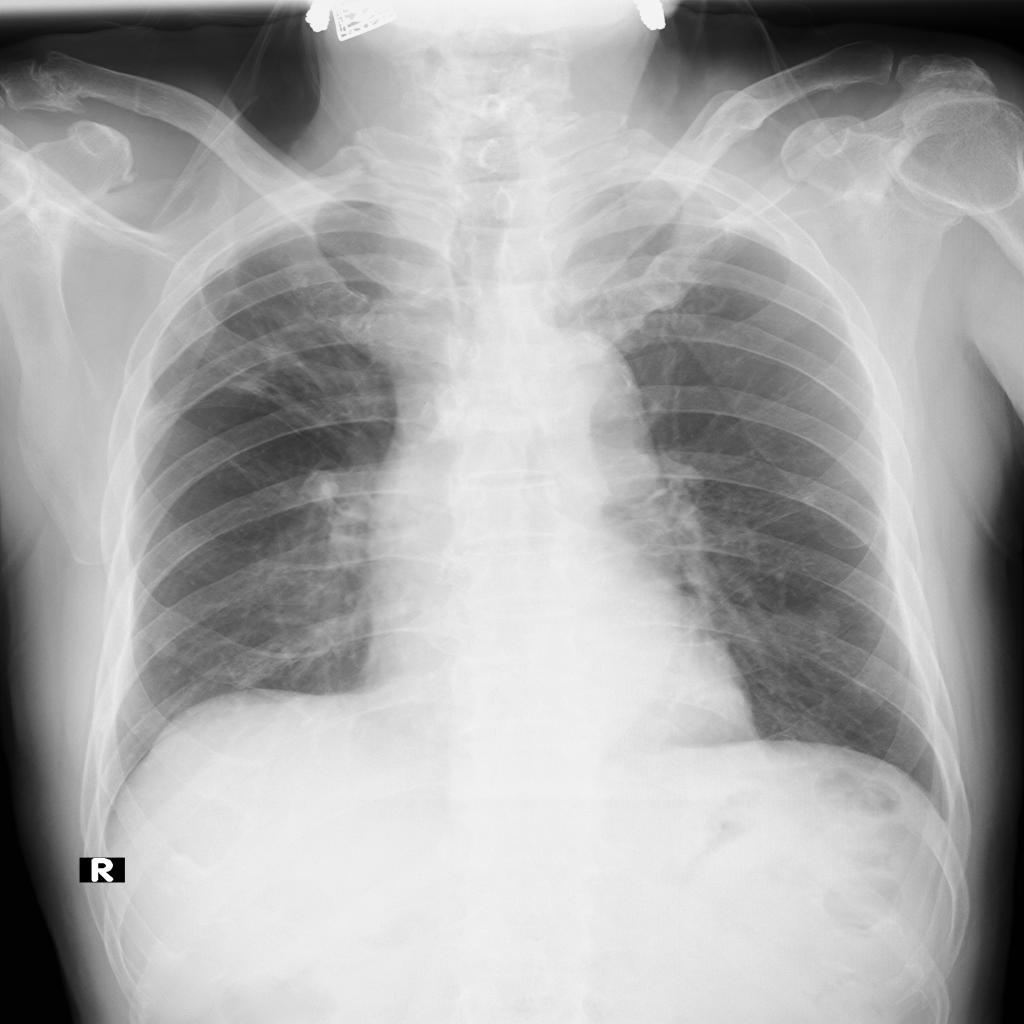Nodule: (155, 639, 177, 658)
